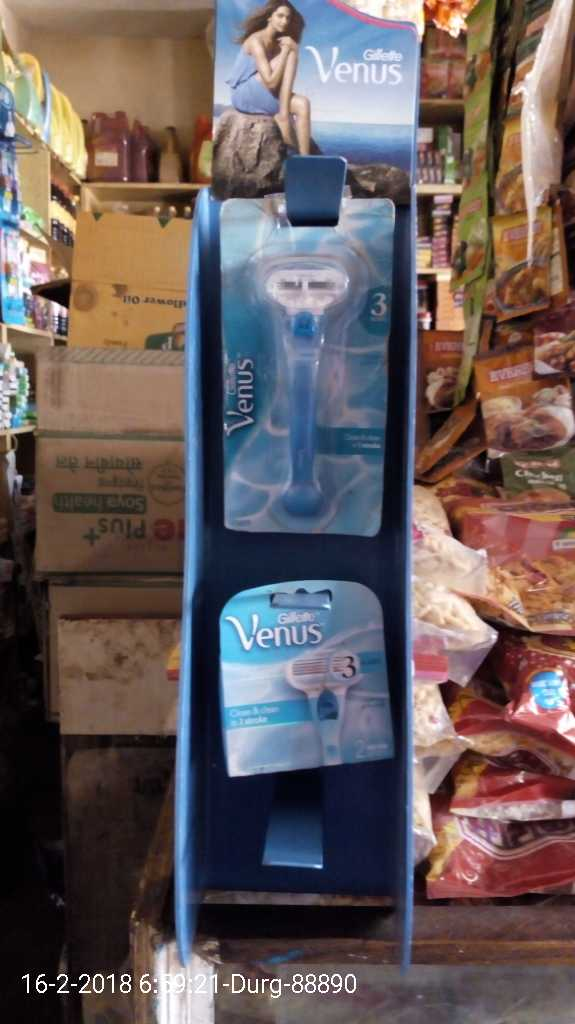venus: (214, 188, 383, 521), (228, 597, 388, 778)
